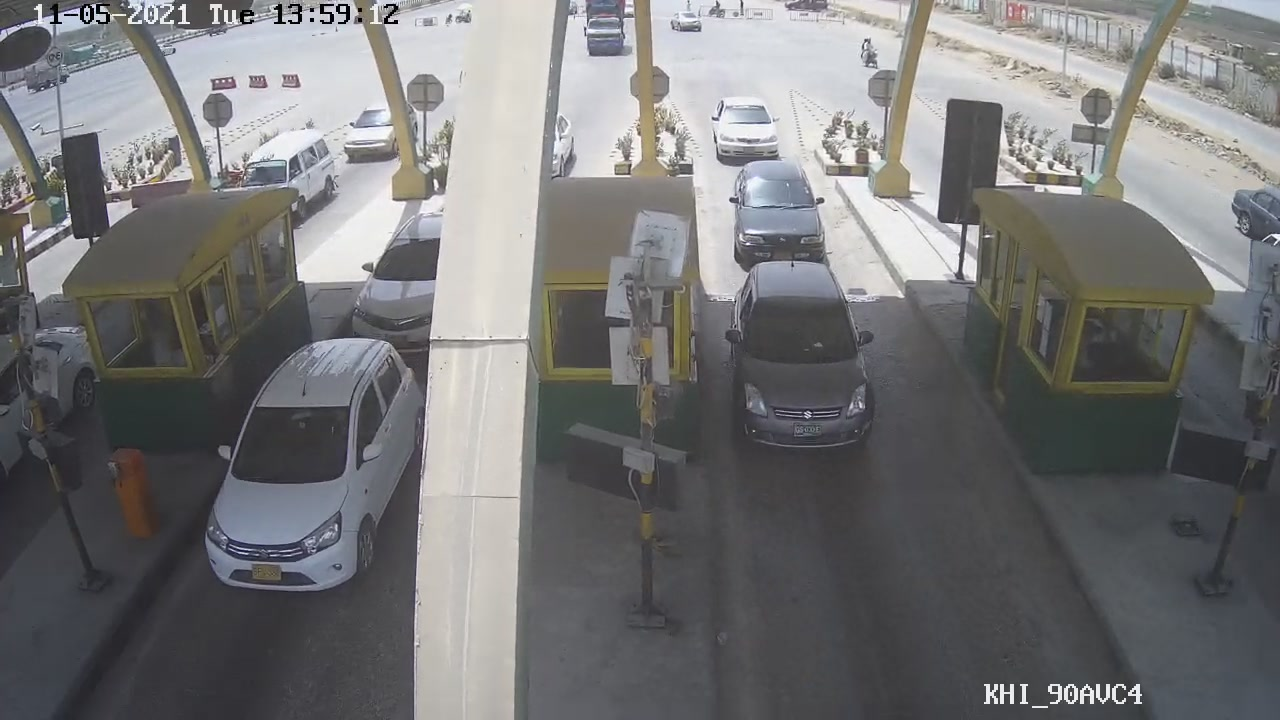F1: (719, 254, 885, 467)
